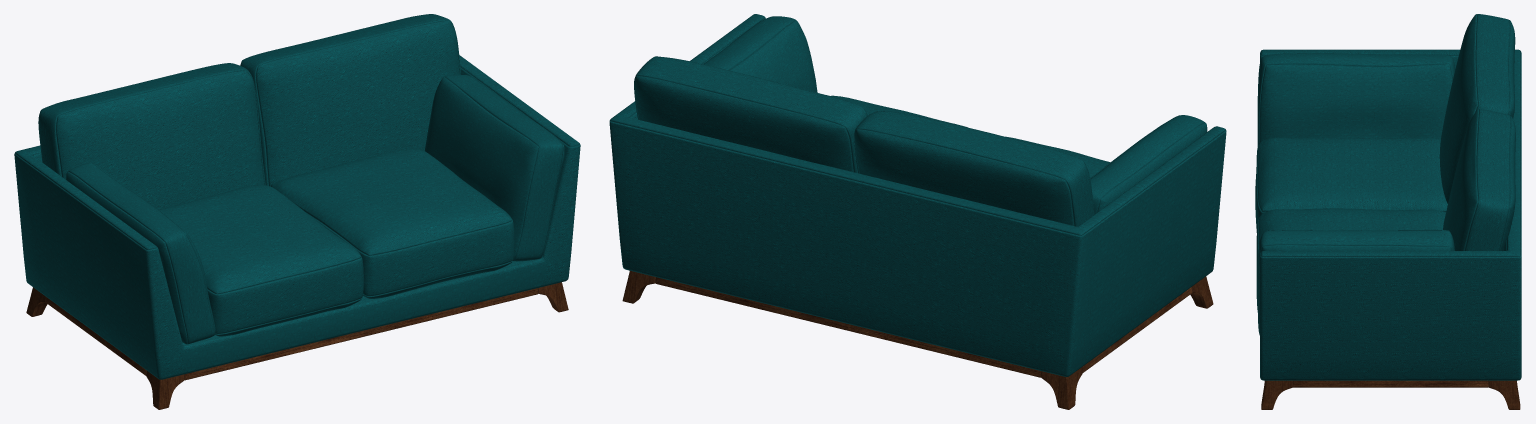
Rendered from sofa-002.glb.
3 views of the same model, side by side, from view 1: azimuth 30°, elevation 25°; view 2: azimuth 150°, elevation 25°; view 3: azimuth 270°, elevation 25° (orthographic). The views are drawn at different scales.
Parts seen in each view (by area): view 1: Fabric, Wood; view 2: Fabric, Wood; view 3: Fabric, Wood.
Part boxes in pixels (x1,y1,x2,y2): Fabric: (14,14,580,379); Wood: (26,282,568,409); Fabric: (609,14,1226,376); Wood: (622,270,1213,409); Fabric: (1255,14,1521,380); Wood: (1261,380,1520,409).
Bounding box in the file's own units: 2.01 × 0.9491 × 1.09.
Materials: 2 (2 with a texture image).
